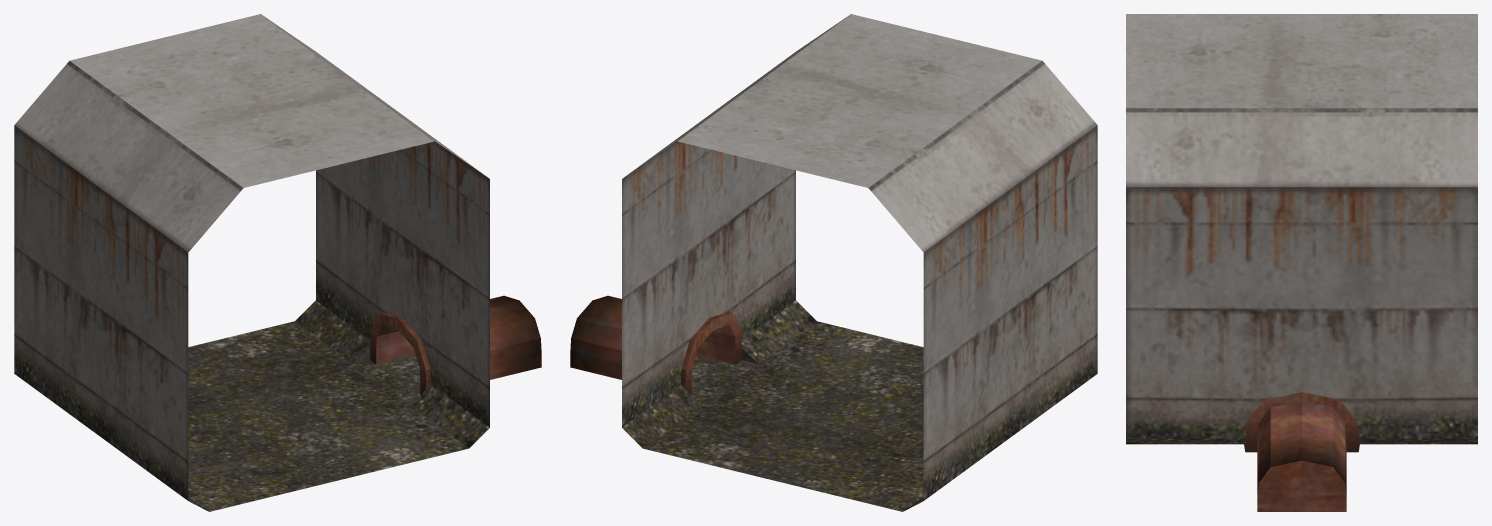
The model's file is MESH_ESGOTO_2_002.fbx.
3 views of the same model, side by side, from view 1: azimuth 30°, elevation 25°; view 2: azimuth 150°, elevation 25°; view 3: azimuth 270°, elevation 25° (orthographic).
Parts seen in each view (by area): view 1: MESH_ESGOTO_2.002; view 2: MESH_ESGOTO_2.002; view 3: MESH_ESGOTO_2.002.
Boxes of the visible parts, left/top/right/bottom form: MESH_ESGOTO_2.002: left=14, top=14, right=541, bottom=511; MESH_ESGOTO_2.002: left=570, top=14, right=1097, bottom=511; MESH_ESGOTO_2.002: left=1126, top=14, right=1477, bottom=511.
Bounding box in the file's own units: 5.55 × 4 × 4.
